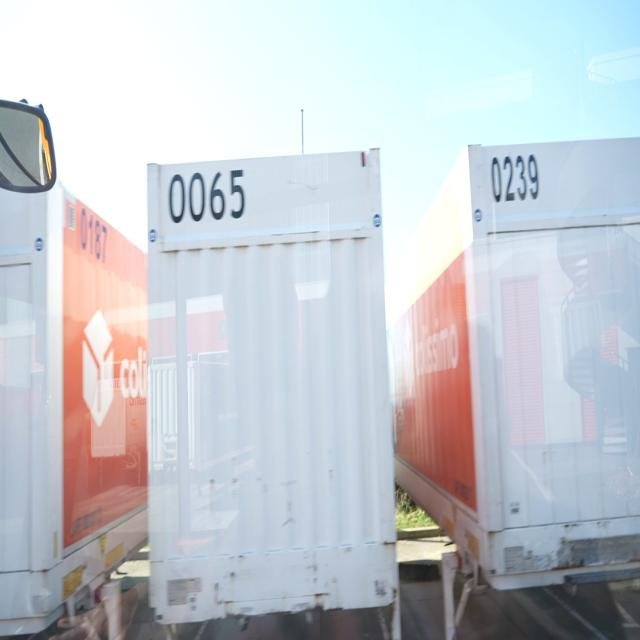Code: (165, 166, 255, 230), (488, 147, 542, 208), (74, 200, 111, 267)
